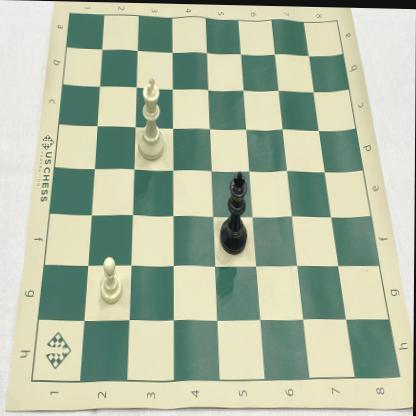black-king: (218, 165, 252, 257)
white-king: (136, 75, 166, 163)
white-pawn: (97, 253, 124, 307)
